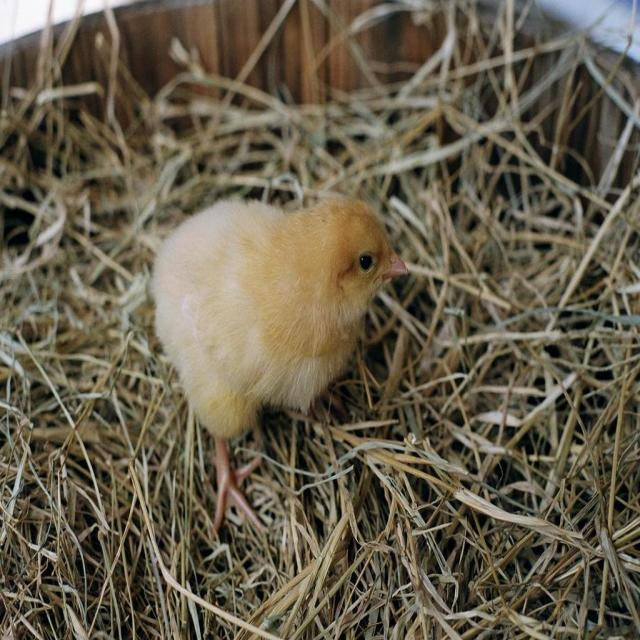Chicken: (128, 209, 403, 554)
